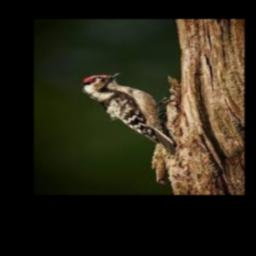Woodpecker: (81, 72, 175, 154)
